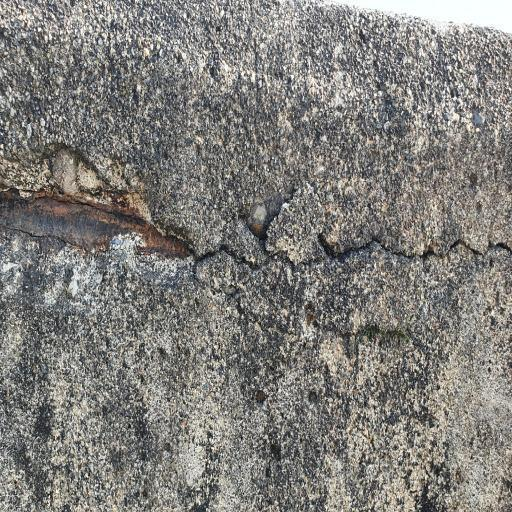exposed_rebar: (0, 192, 189, 258)
spalling: (0, 148, 191, 256)
